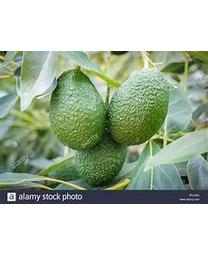avocado: (48, 69, 108, 151), (108, 68, 169, 146), (74, 114, 130, 187)
